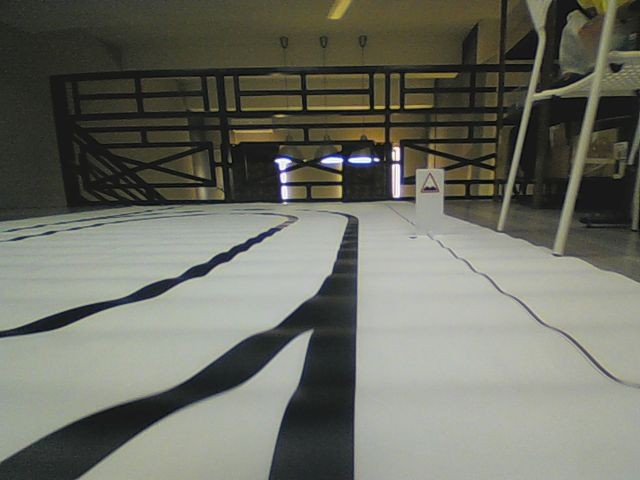Nerov: (419, 171, 440, 194)
